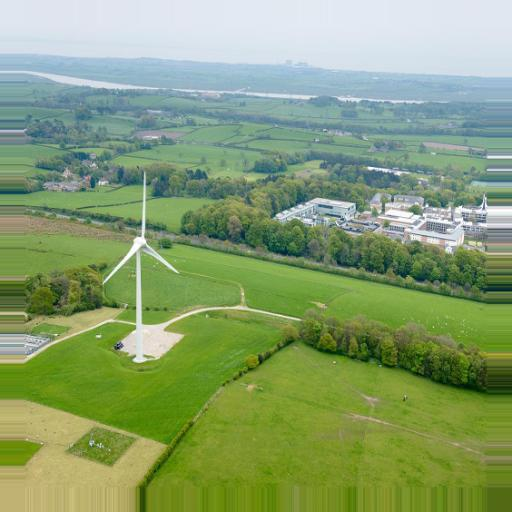wind turbine: (101, 171, 181, 359)
